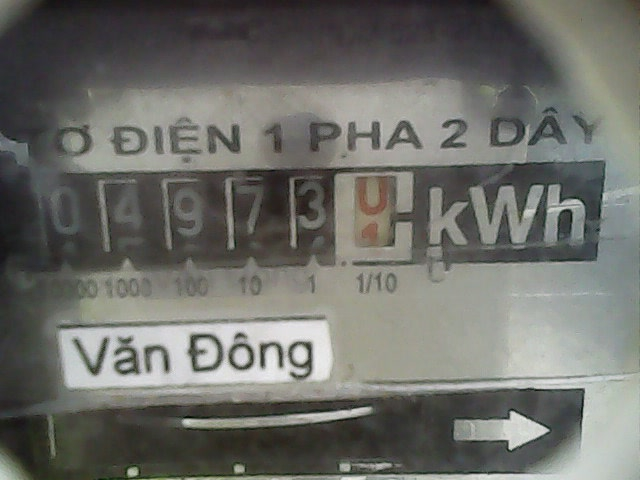phy_plate: (24, 168, 423, 270)
